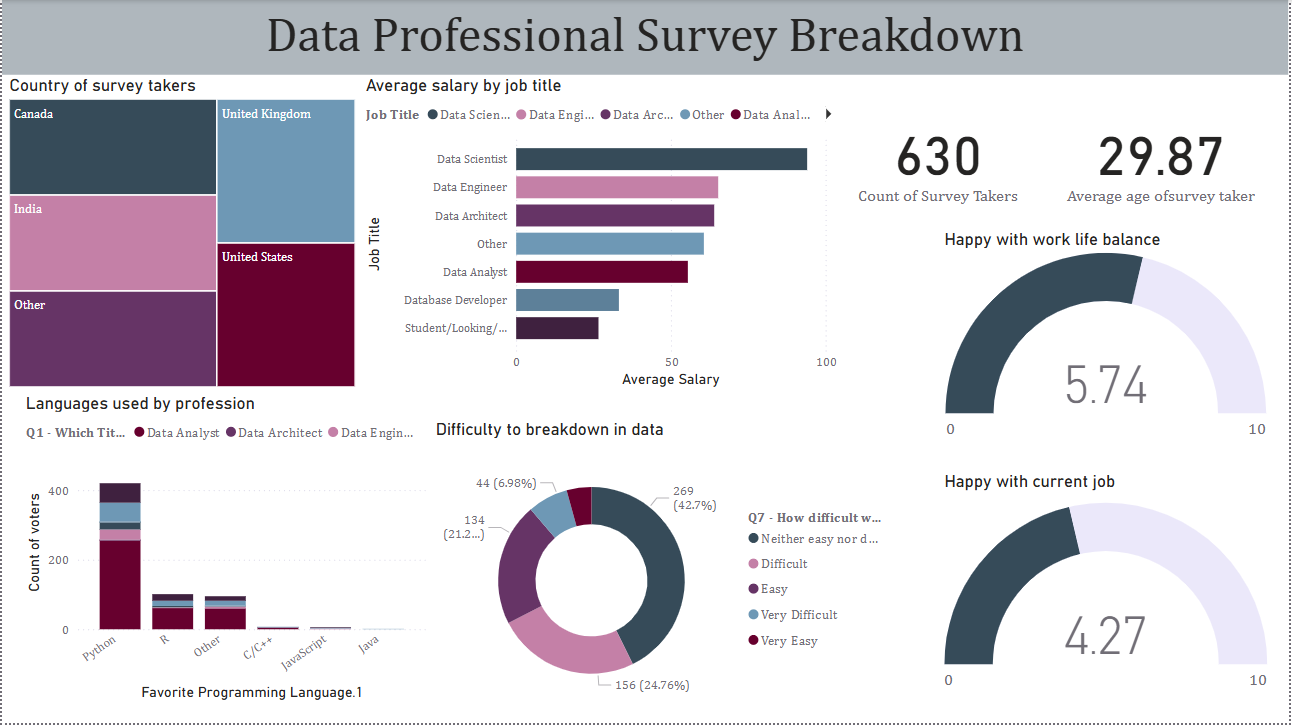

The page's visual inventory and layout, read from the dashboard file:
{"tool":"powerbi","page":{"name":"Page 1","canvas":[1280,720],"ordinal":0},"visuals":[{"type":"textbox","box":[0,0,1280,74.3],"z":0},{"type":"card","fields":{"Values":["CountNonNull(Data Professional Survey.Unique ID)"]},"box":[821.4,74.3,221.4,165.7],"z":1000},{"type":"card","fields":{"Values":["Avg(Data Professional Survey.Q10 - Current Age)"]},"box":[1042.9,74.3,221.4,165.7],"z":2000},{"type":"barChart","title":"Average salary by job title","fields":{"Category":["Data Professional Survey.Q1 - Which Title Best Fits your Current Role?.1"],"Y":["Avg(Data Professional Survey.Average Salary)"],"Series":["Data Professional Survey.Q1 - Which Title Best Fits your Current Role?.1"]},"box":[357.1,74.3,478.6,315.7],"z":3000},{"type":"columnChart","title":"Languages used by profession","fields":{"Category":["Data Professional Survey.Q5 - Favorite Programming Language.1"],"Y":["CountNonNull(Data Professional Survey.Unique ID)"],"Series":["Data Professional Survey.Q1 - Which Title Best Fits your Current Role?.1"]},"box":[18.6,390,408.6,311.4],"z":4000},{"type":"treemap","title":"Country of survey takers","fields":{"Group":["Data Professional Survey.Q11 - Which Country do you live in?.1"],"Values":["Count(Data Professional Survey.Q11 - Which Country do you live in?.1)"]},"box":[2.9,74.3,354.3,315.7],"z":5000},{"type":"gauge","title":"Happy with work life balance","fields":{"Y":["Avg(Data Professional Survey.Q6 - How Happy are you in your Current Position with the following? (Work/Life Balance))"],"MinValue":["Min(Data Professional Survey.Q6 - How Happy are you in your Current Position with the following? (Work/Life Balance))1"],"MaxValue":["Max(Data Professional Survey.Q6 - How Happy are you in your Current Position with the following? (Work/Life Balance))2"]},"box":[932.9,227.1,331.4,217.1],"z":6000},{"type":"gauge","title":"Happy with current job","fields":{"Y":["Avg(Data Professional Survey.Q6 - How Happy are you in your Current Position with the following? (Salary))"],"MinValue":["Min(Data Professional Survey.Q6 - How Happy are you in your Current Position with the following? (Salary))"],"MaxValue":["Max(Data Professional Survey.Q6 - How Happy are you in your Current Position with the following? (Salary))"]},"box":[932.9,468.6,331.4,232.9],"z":7000},{"type":"donutChart","title":"Difficulty to breakdown in data ","fields":{"Category":["Data Professional Survey.Q7 - How difficult was it for you to break into Data?"],"Y":["CountNonNull(Data Professional Survey.Q7 - How difficult was it for you to break into Data?)"]},"box":[427.1,417.1,454.3,302.9],"z":8000}]}

Visuals, with their boxes in screenshot pixels (x1, y1, x2, y2), scaled from the page's 1280x720 canvas onto the 1292x725 screenshot:
textbox: box=[0, 0, 1291, 75]
card - CountNonNull(Data Professional Survey.Unique ID): box=[829, 75, 1053, 242]
card - Avg(Data Professional Survey.Q10 - Current Age): box=[1053, 75, 1276, 242]
"Average salary by job title" barChart: box=[360, 75, 844, 393]
"Languages used by profession" columnChart: box=[19, 393, 431, 706]
"Country of survey takers" treemap: box=[3, 75, 361, 393]
"Happy with work life balance" gauge: box=[942, 229, 1276, 447]
"Happy with current job" gauge: box=[942, 472, 1276, 706]
"Difficulty to breakdown in data " donutChart: box=[431, 420, 890, 724]
